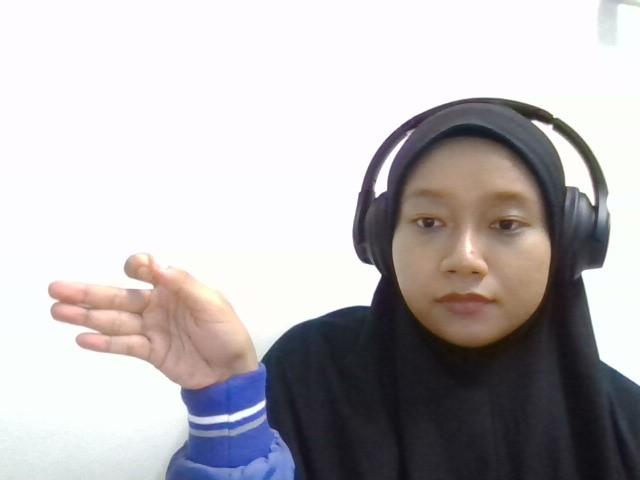Angsa: (49, 250, 257, 389)
